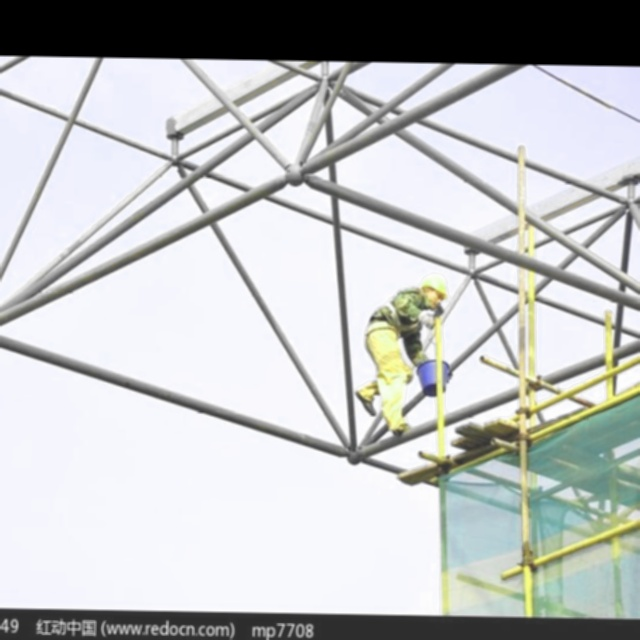Con_Casco: (422, 271, 447, 309)
